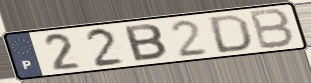2: (85, 26, 127, 68), (168, 19, 211, 59), (42, 32, 83, 72)
B: (248, 7, 297, 51), (123, 22, 170, 64)
D: (208, 13, 254, 55)
